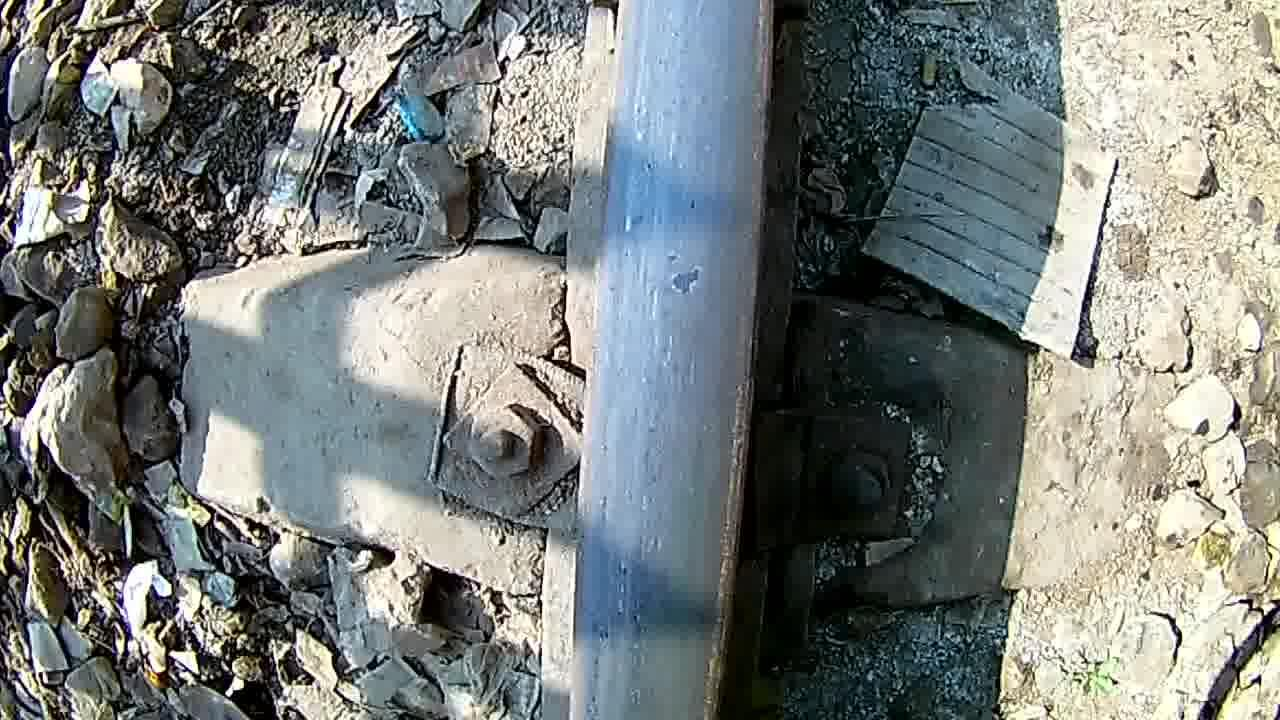crack: (613, 186, 746, 426)
